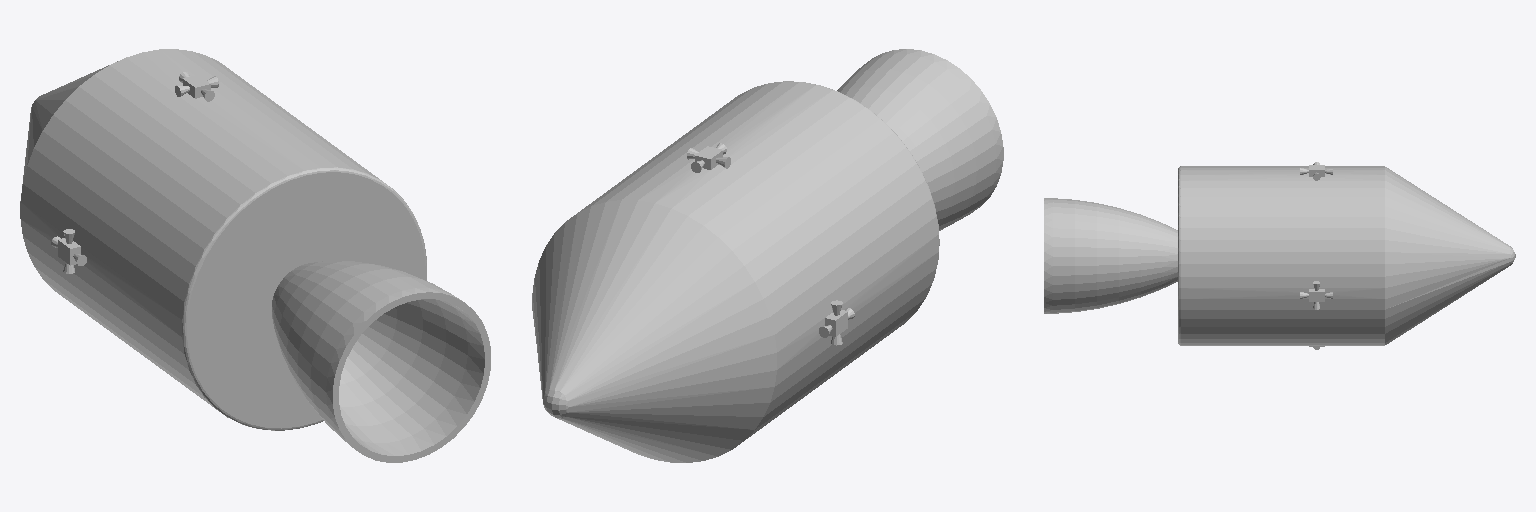
URDF robot description (csm):
<?xml version="1.0"?>
<robot name="csm"> -->
  <link name="base_link">
    <visual>
      <geometry>
        <mesh filename="package://apollo/viz/csm.dae"/>
      </geometry>
      <origin xyz="0 0 0" rpy="1.57079632 0 1.57079632"/>
    </visual>
  </link>
</robot>

--- What the picture shows (computed from the rendered views, not written in the file) ---
The picture shows the robot from 3 angles, left to right: view 1: azimuth 30°, elevation 25°; view 2: azimuth 150°, elevation 25°; view 3: azimuth 270°, elevation 25°; orthographic projection.
Robot: csm — 1 links, 0 joints (none); root link base_link; default pose: every joint at zero.
Visible links, largest first — view 1: base_link; view 2: base_link; view 3: base_link.
Boxes of the visible links, box(x1,y1,x2,y2) form: base_link: box(20, 49, 490, 462); base_link: box(532, 49, 1003, 462); base_link: box(1044, 162, 1515, 349).
Bounding box of the posed robot: 6.57 × 15.94 × 6.57 m (x, y, z).
1 mesh visuals loaded from 1 distinct referenced files (1 Collada DAE).